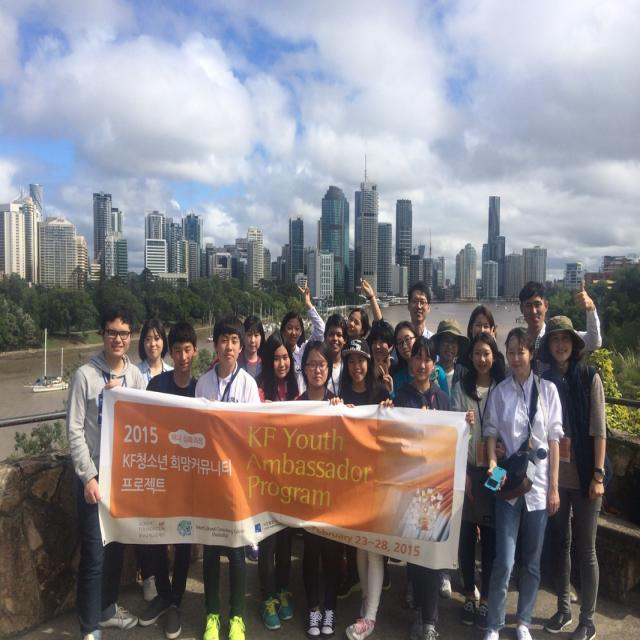body: (511, 278, 604, 603), (378, 335, 475, 639), (64, 302, 147, 640), (478, 325, 562, 639), (536, 311, 614, 639), (194, 312, 263, 640), (331, 335, 394, 639), (451, 330, 505, 629), (254, 330, 304, 632), (292, 338, 342, 638), (236, 314, 266, 564), (378, 320, 451, 402), (279, 278, 326, 398), (455, 305, 506, 388), (427, 317, 472, 401), (132, 315, 175, 392), (346, 276, 385, 354), (132, 319, 174, 391), (365, 314, 400, 392), (323, 313, 348, 396), (406, 279, 435, 339)
